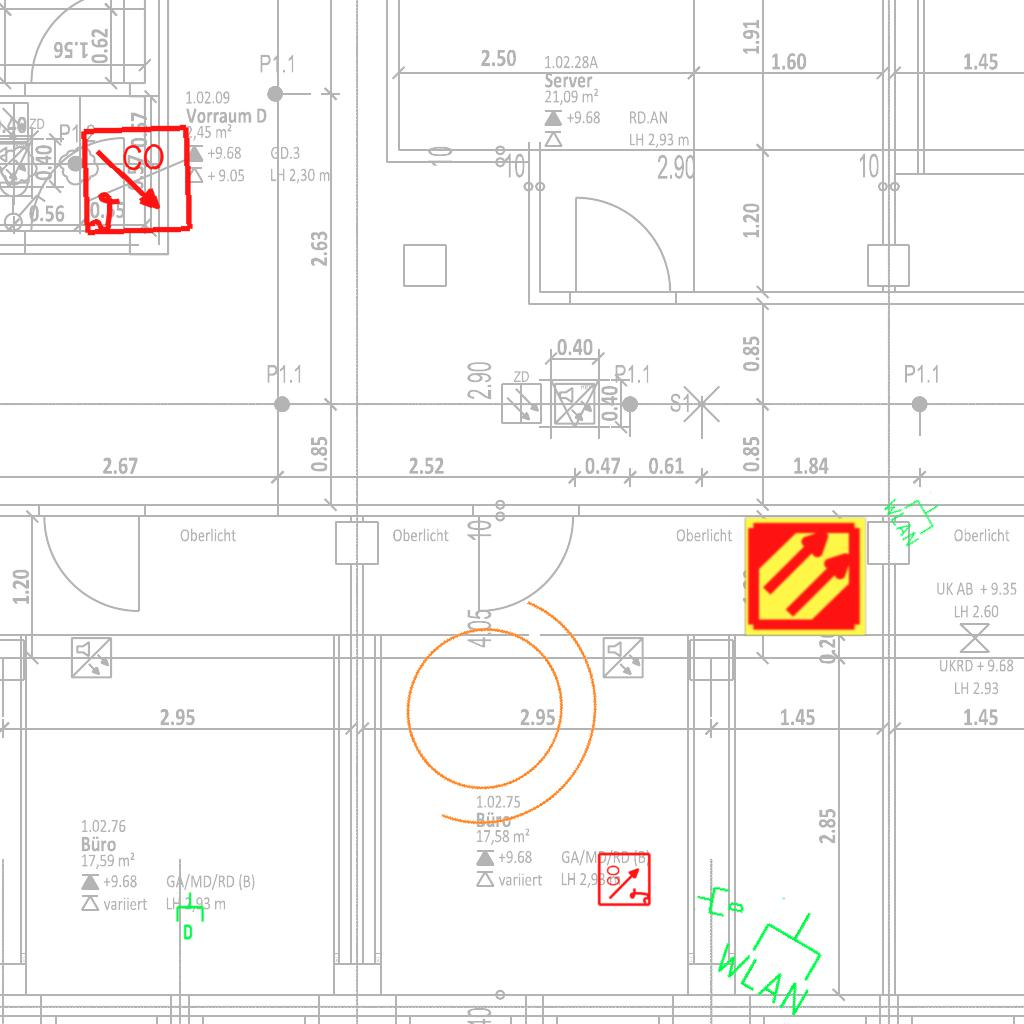ASR_Ansaugrauchmelder: (743, 514, 868, 639)
Datenanschluss_einfach: (693, 879, 749, 923), (174, 891, 208, 941)
ROA_Rauchmelder_optisch_mit_Signalgeber_(Sockelsirene): (79, 123, 196, 240), (597, 851, 653, 907)
Scheinwerfer_fuer_Alarmbeleuchtung: (342, 541, 650, 872)
WLAN: (705, 879, 849, 1022), (879, 478, 951, 550)
